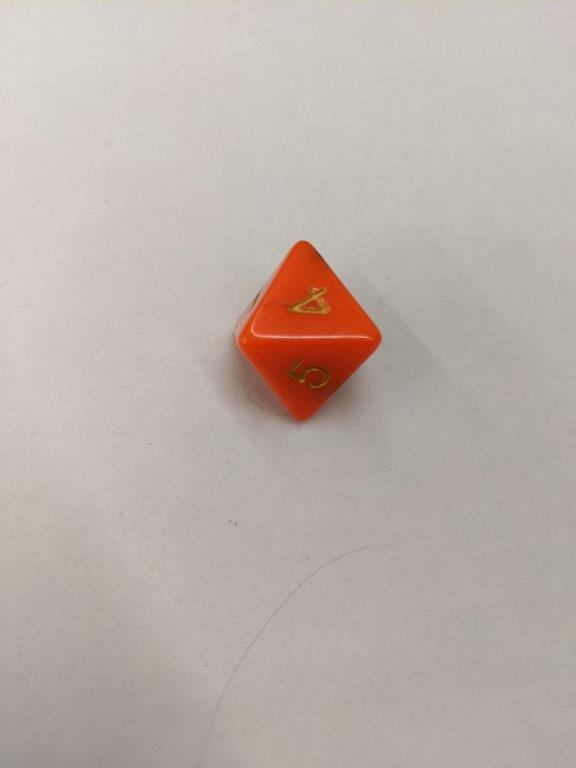d8-4: (238, 240, 383, 425)
